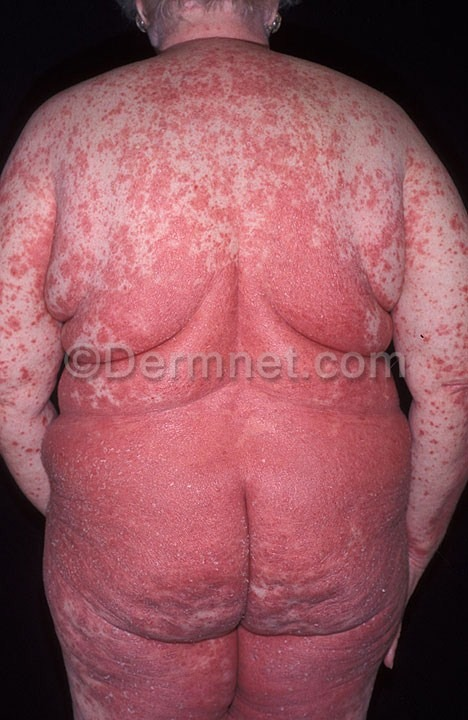Psoriasis: (75, 243, 398, 720), (113, 47, 345, 242)
